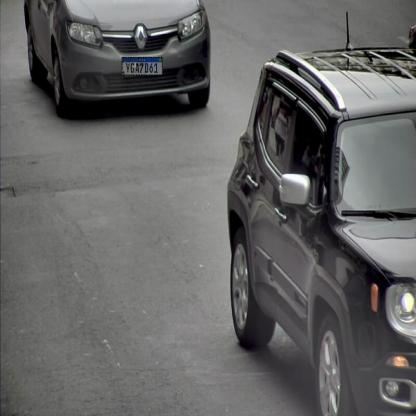PlacaM: (122, 57, 162, 75)
